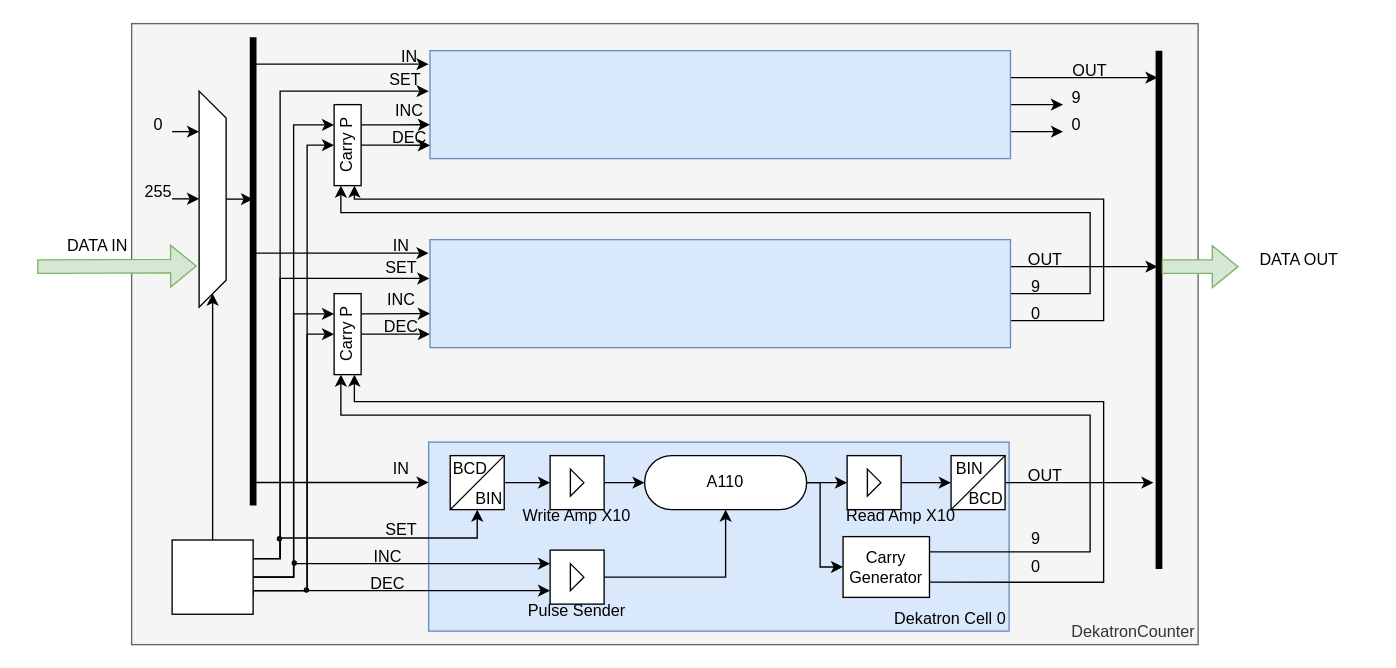
Image size: 1396x668. Some labels were removed from this diagram. The shapes that lost their labels are listed below. From the top down, each one's centre as x and y in pixels, then its label:
[719,104]: Dekatron Cell 2
[719,293]: Dekatron Cell 1
[212,576]: Counter FSM
